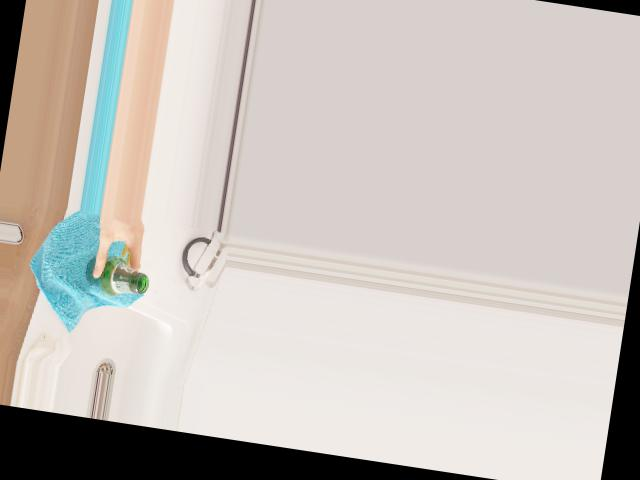beer: (82, 254, 150, 299)
